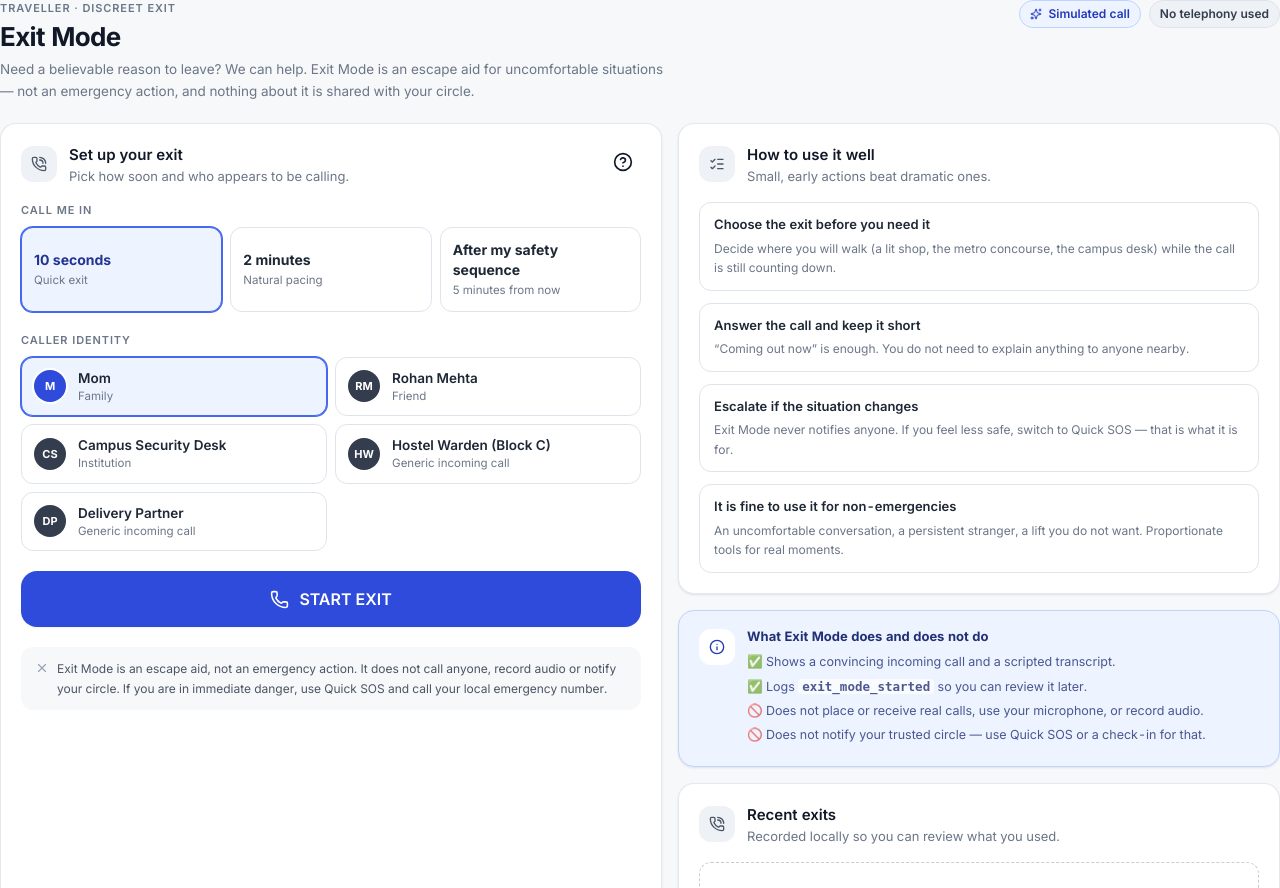
Fake Call help and microphone isolation › opens and dismisses setup help using Escape
Click the button named "Fake call help" at [623, 162], box [605,144,641,180]
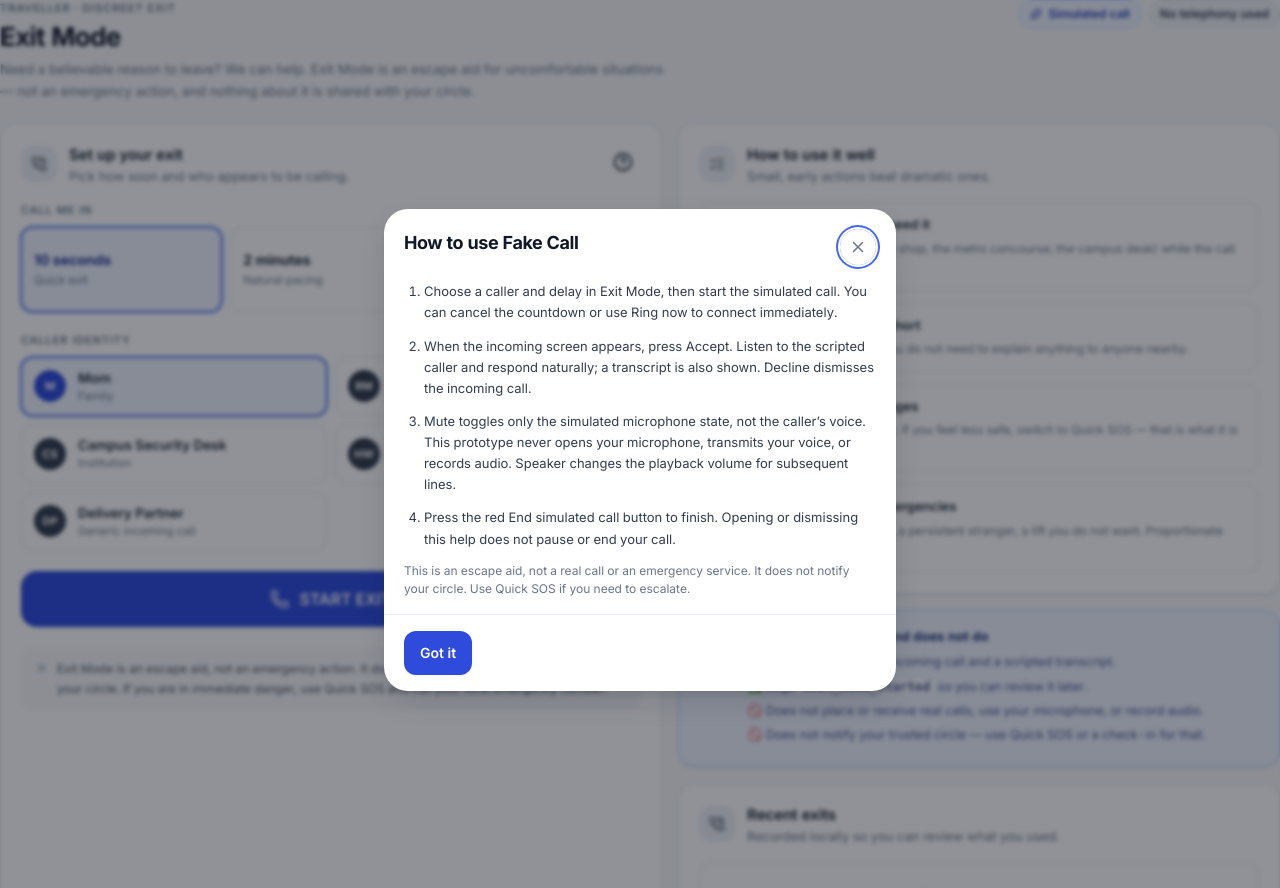
Check: the dialog "How to use Fake Call" is shown, box [384,209,896,691]
Check: the list item "Choose a caller and delay" is shown, box [424,283,867,320]
Press Escape
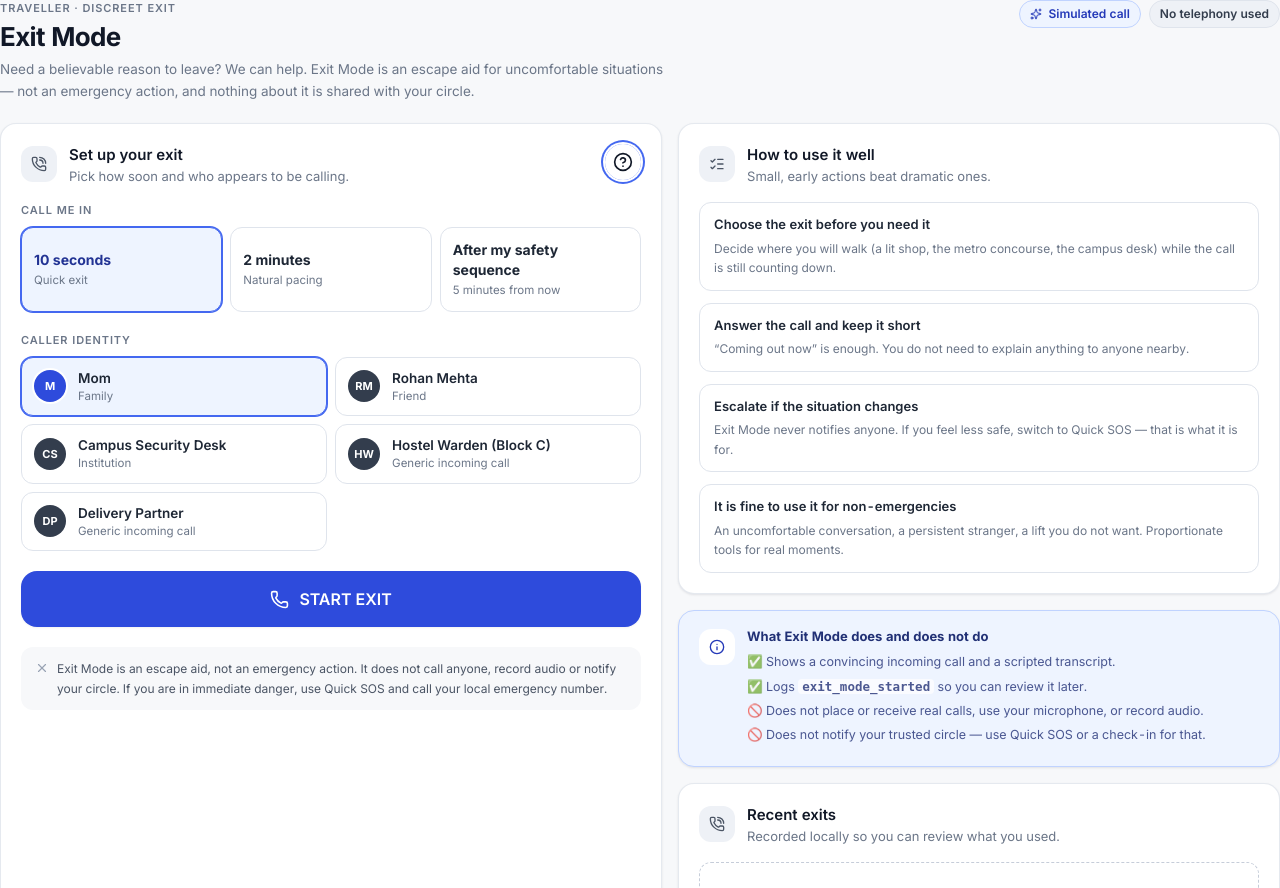
Check: the dialog is gone
